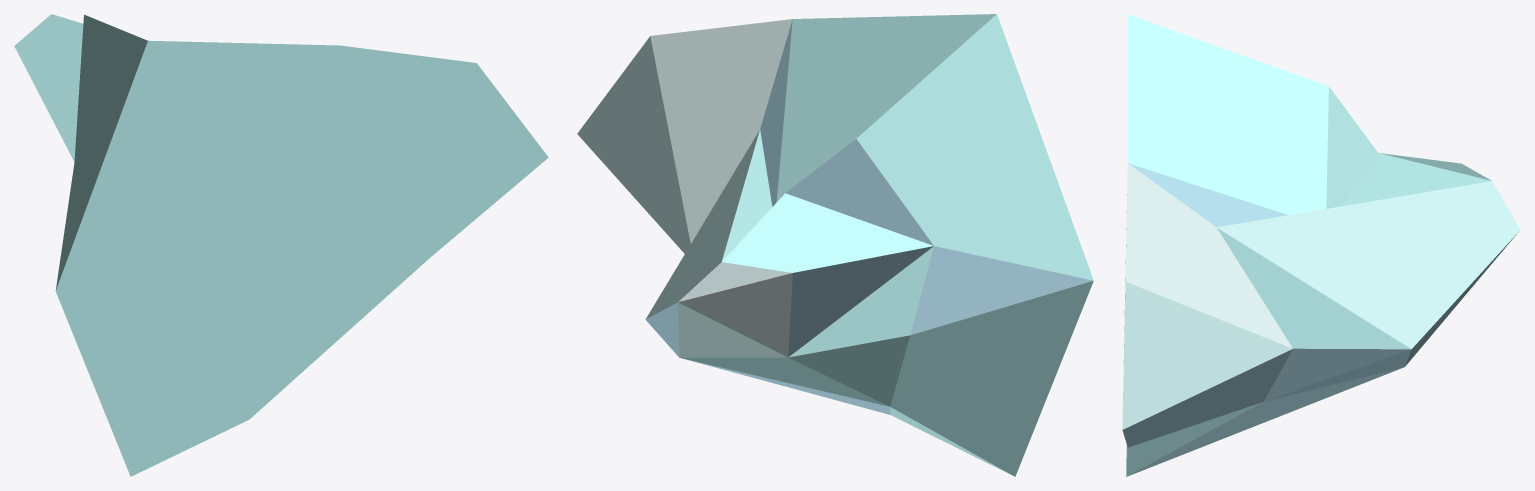
File: winter_rock_1.fbx
3 renders of one model, left to right at view 1: azimuth 30°, elevation 25°; view 2: azimuth 150°, elevation 25°; view 3: azimuth 270°, elevation 25°, orthographic. The views are drawn at different scales.
Parts seen in each view (by area): view 1: winter_rock_1; view 2: winter_rock_1; view 3: winter_rock_1.
Part boxes in pixels (x1,y1,x2,y2): winter_rock_1: (14,14,548,476); winter_rock_1: (577,14,1093,476); winter_rock_1: (1122,14,1520,476).
Size of the model in its own units: 324 by 273 by 223.
